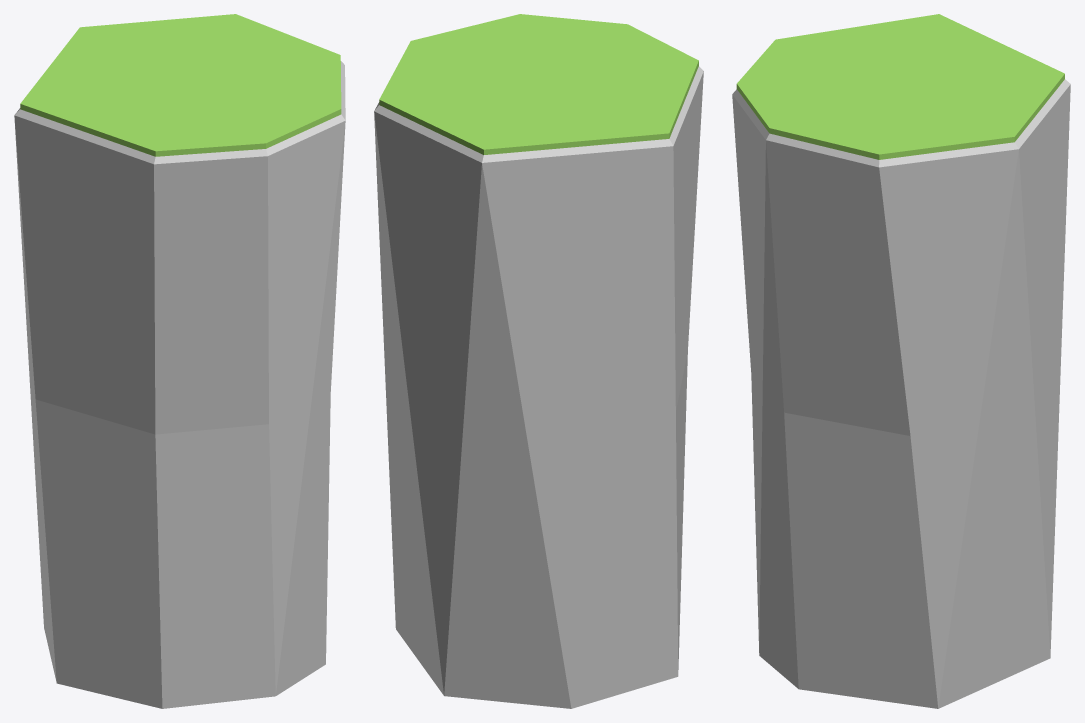
File: Rocks.fbx
The picture shows the model from 3 angles, left to right: view 1: azimuth 30°, elevation 25°; view 2: azimuth 150°, elevation 25°; view 3: azimuth 270°, elevation 25°; orthographic projection.
Visible parts, largest first — view 1: Rock_1; view 2: Rock_1; view 3: Rock_1.
Boxes of the visible parts, left/top/right/bottom form: Rock_1: left=14, top=14, right=345, bottom=708; Rock_1: left=374, top=14, right=703, bottom=708; Rock_1: left=732, top=14, right=1070, bottom=708.
Size of the model in its own units: 231 by 418 by 228.
